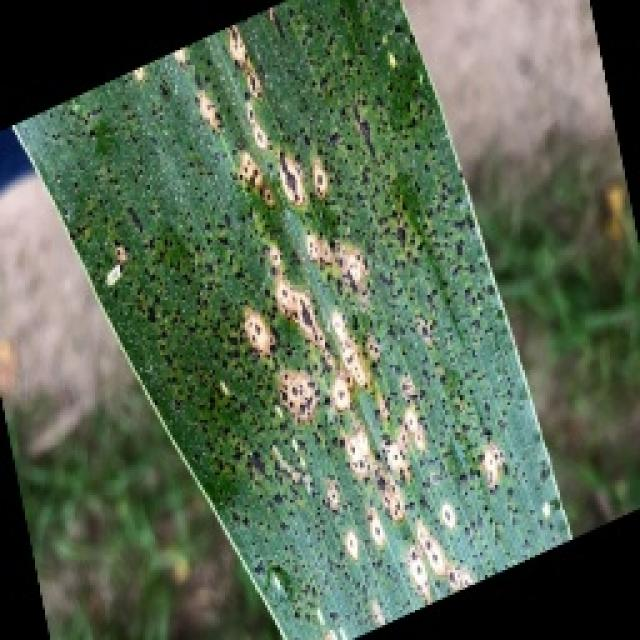Tar_Spot: (129, 119, 518, 521)
